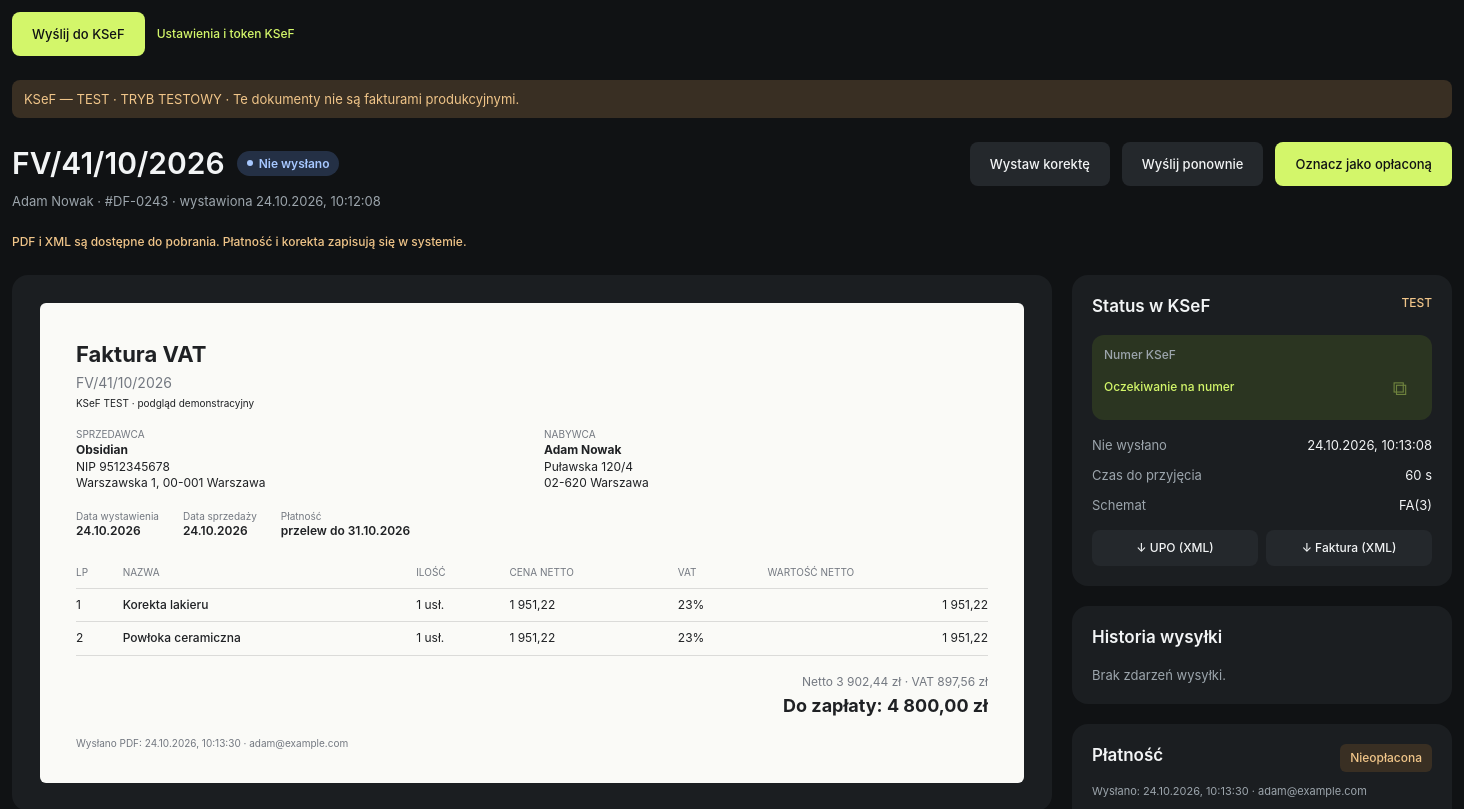
Test: queues KSeF on details and displays queued status and history (mobile=false)
Click the button "Wyślij do KSeF": {"x": 78, "y": 34} [12,12,145,56]
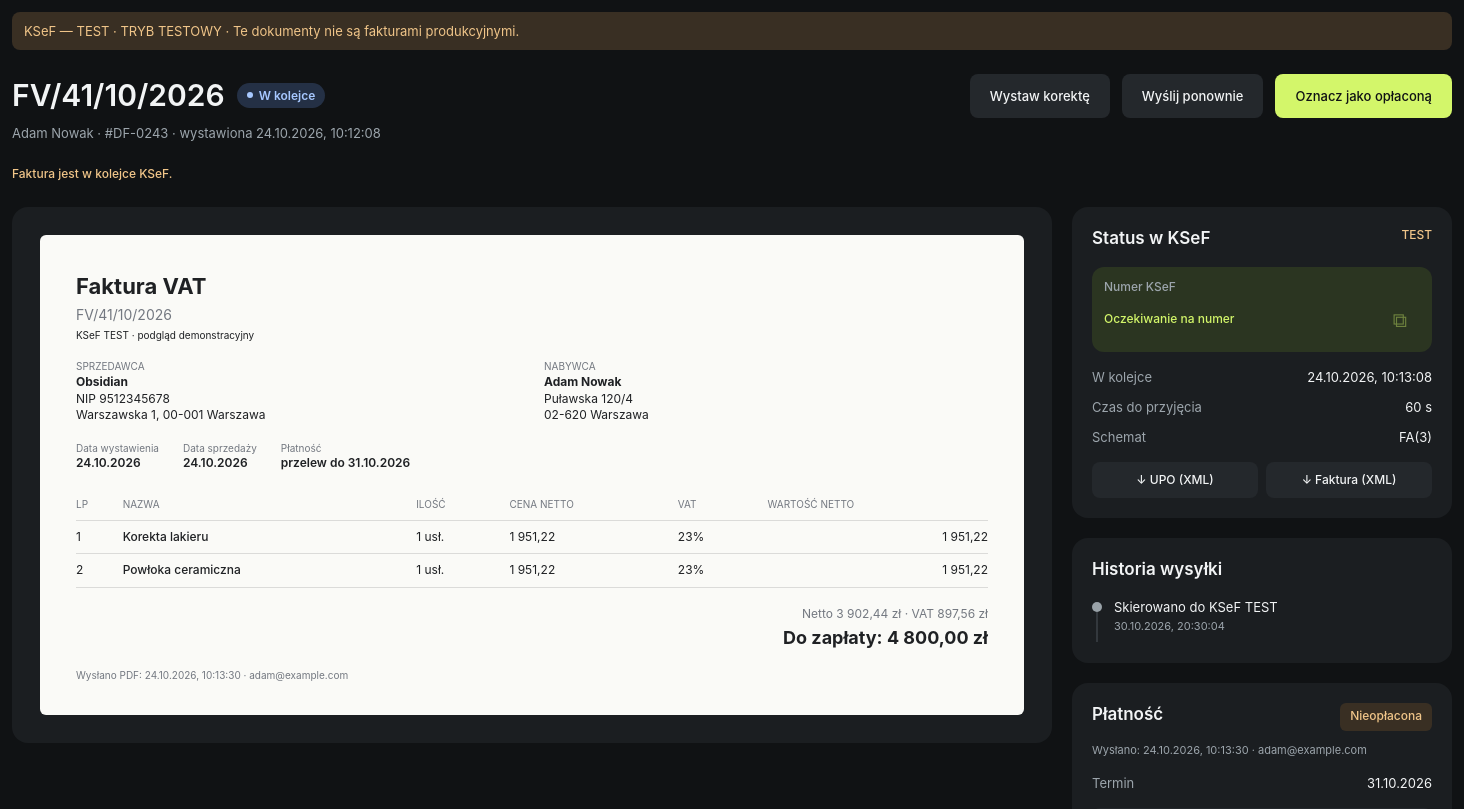
Expected: the text "W kolejce" is shown, [237,83,325,108]
Expected: the text "Skierowano do KSeF TEST" is shown, [1114,598,1278,616]
Expected: the button "Wyślij do KSeF" is gone
